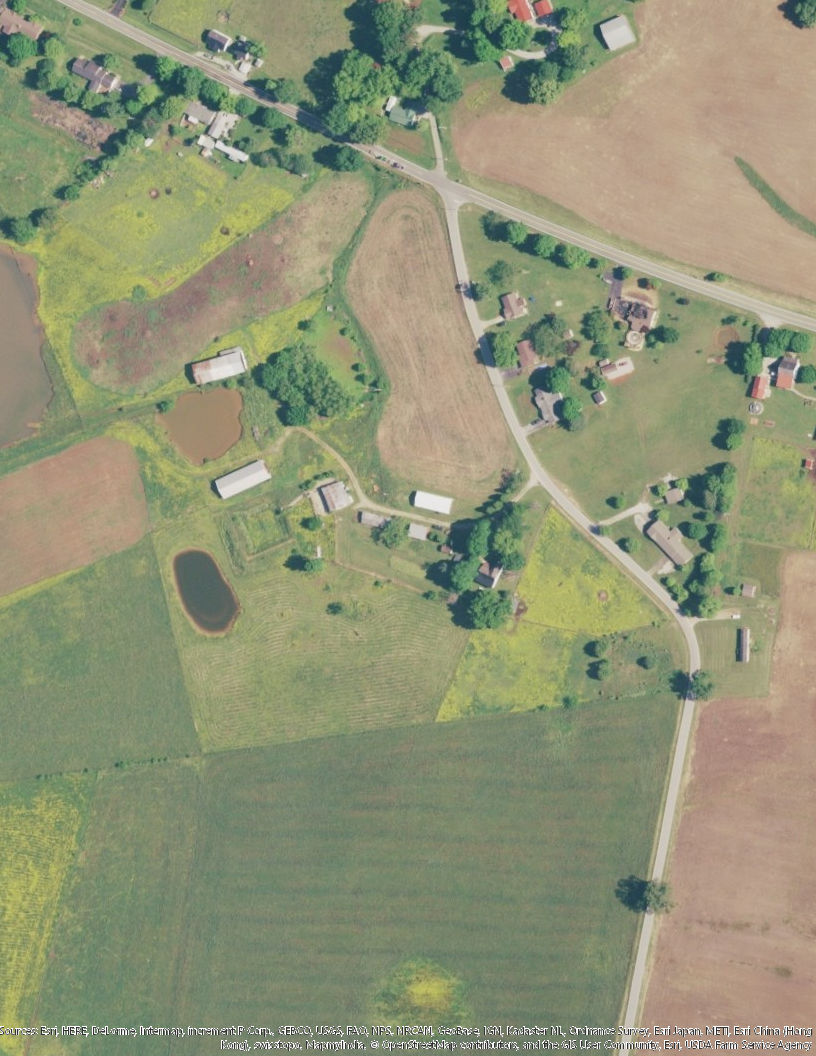cafo: (209, 456, 277, 498), (189, 347, 254, 386), (403, 486, 459, 516)
